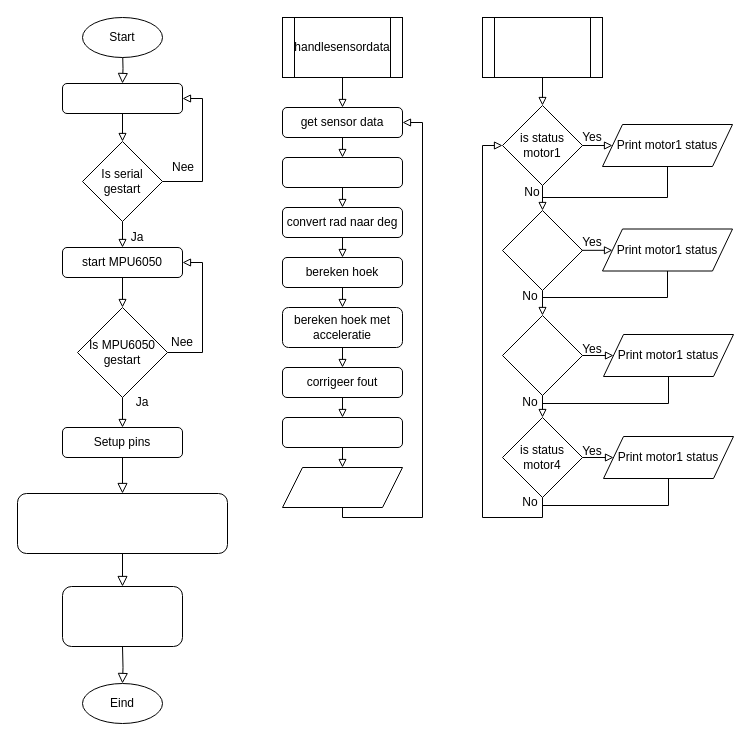
This 751x741 diagram has some shape labels left out. Each missing label, with the centre of its shape:
bereken time step: [342,172]
cailbreer sensoren start timer: [122,616]
covert deg naar quaternion: [342,432]
handleMotordata: [542,47]
is status motor2: [542,250]
is status motor3: [542,355]
start serial: [122,98]
Start task handlesensordata start task handleMotordata: [122,523]
stuur over quaternion serial: [342,487]
